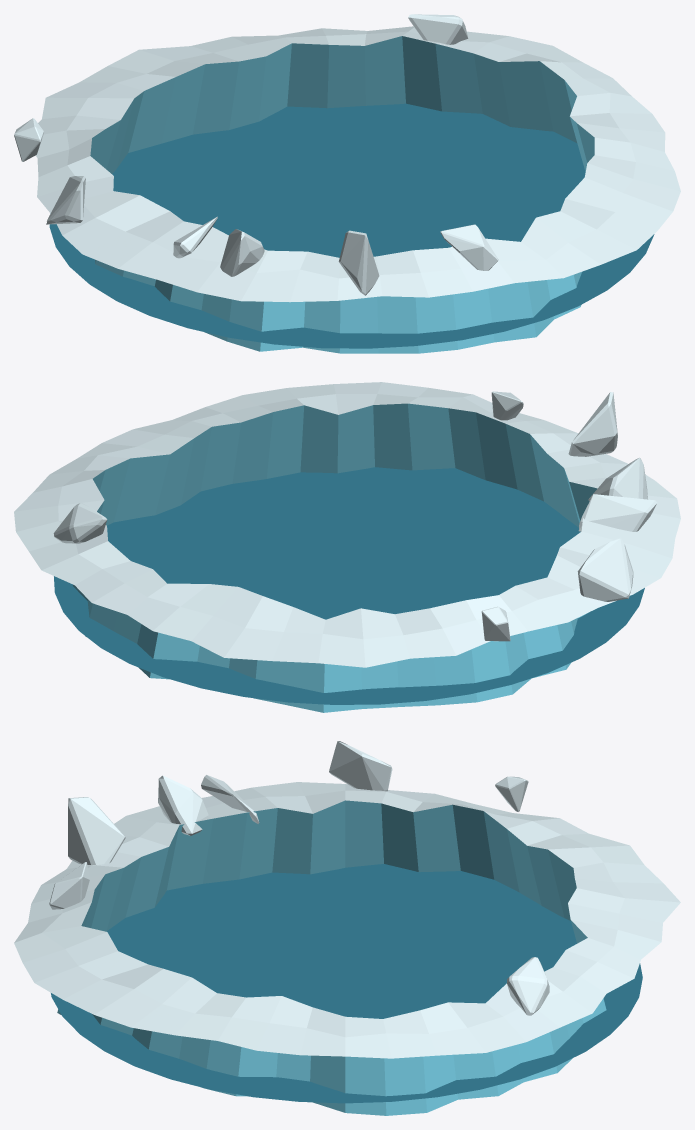
Rendered from ice_hole_rim_a.glb.
3 views of the same model, one above another, from view 1: azimuth 30°, elevation 25°; view 2: azimuth 150°, elevation 25°; view 3: azimuth 270°, elevation 25° (orthographic). The views are drawn at different scales.
Visible parts, largest first — view 1: HoleRim, Water, Shard, Shard.001, Shard.002, Shard.006, Shard.004, Shard.003, Shard.005; view 2: HoleRim, Water, Shard.004, Shard.005, Shard, Shard.002, Shard.006, Shard.003, Shard.001; view 3: HoleRim, Water, Shard, Shard.004, Shard.006, Shard.002, Shard.001, Shard.005, Shard.003.
Part boxes in pixels (x1=…): HoleRim: x1=36, y1=26, x2=680, y2=353; Water: x1=49, y1=103, x2=654, y2=348; Shard: x1=338, y1=230, x2=379, y2=295; Shard.001: x1=440, y1=224, x2=498, y2=270; Shard.002: x1=408, y1=14, x2=468, y2=44; Shard.006: x1=220, y1=229, x2=264, y2=276; Shard.004: x1=46, y1=176, x2=85, y2=224; Shard.003: x1=14, y1=118, x2=43, y2=161; Shard.005: x1=173, y1=216, x2=217, y2=258; HoleRim: x1=14, y1=382, x2=680, y2=712; Water: x1=54, y1=467, x2=644, y2=704; Shard.004: x1=577, y1=537, x2=633, y2=601; Shard.005: x1=578, y1=494, x2=657, y2=531; Shard: x1=568, y1=392, x2=617, y2=456; Shard.002: x1=53, y1=503, x2=107, y2=543; Shard.006: x1=588, y1=457, x2=647, y2=501; Shard.003: x1=481, y1=606, x2=510, y2=641; Shard.001: x1=491, y1=391, x2=523, y2=420; HoleRim: x1=14, y1=782, x2=680, y2=1115; Water: x1=51, y1=864, x2=642, y2=1103; Shard: x1=68, y1=797, x2=125, y2=864; Shard.004: x1=329, y1=741, x2=392, y2=791; Shard.006: x1=158, y1=775, x2=208, y2=835; Shard.002: x1=507, y1=957, x2=549, y2=1015; Shard.001: x1=49, y1=862, x2=89, y2=909; Shard.005: x1=201, y1=775, x2=259, y2=823; Shard.003: x1=495, y1=776, x2=528, y2=811.
Bounding box in the file's own units: 2.69 × 0.6157 × 2.74.
